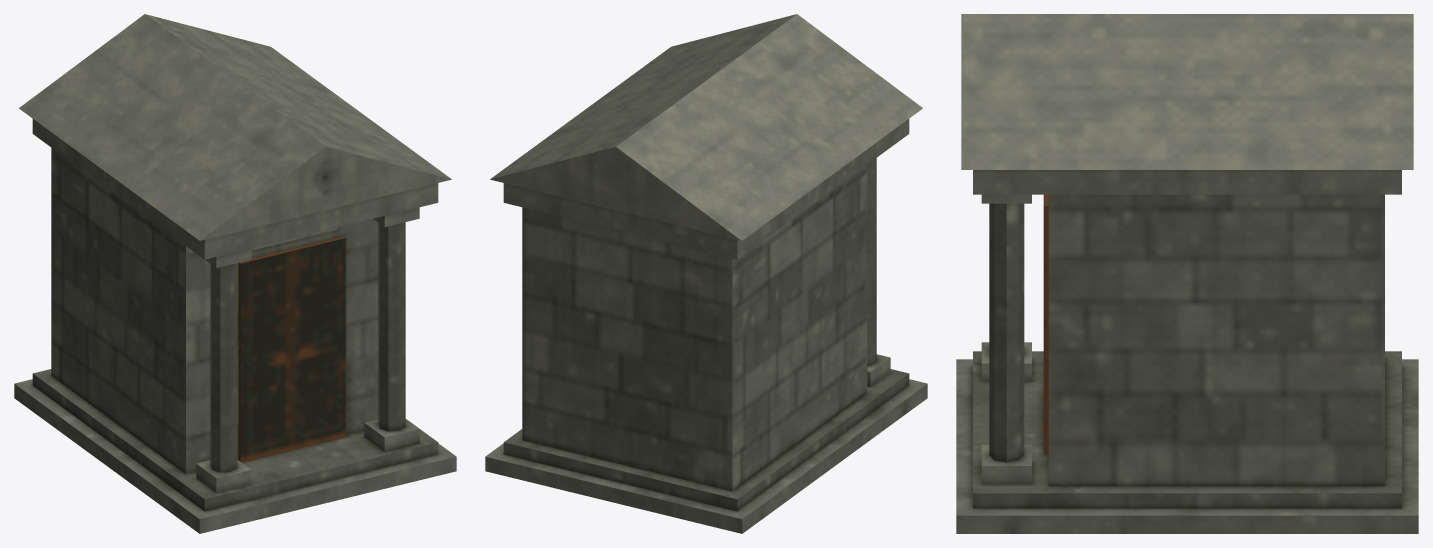
File: Crypt_01.obj
3 views of the same model, side by side, from view 1: azimuth 30°, elevation 25°; view 2: azimuth 150°, elevation 25°; view 3: azimuth 270°, elevation 25° (orthographic). The views are drawn at different scales.
Parts seen in each view (by area): view 1: Crypt_01; view 2: Crypt_01; view 3: Crypt_01.
Part boxes in pixels (box(x1,y1,x2,y2)): Crypt_01: box(14, 14, 456, 533); Crypt_01: box(485, 14, 927, 533); Crypt_01: box(956, 14, 1418, 533).
Size of the model in its own units: 2.2 by 2.9 by 2.75.
1 material, 1 textured.
